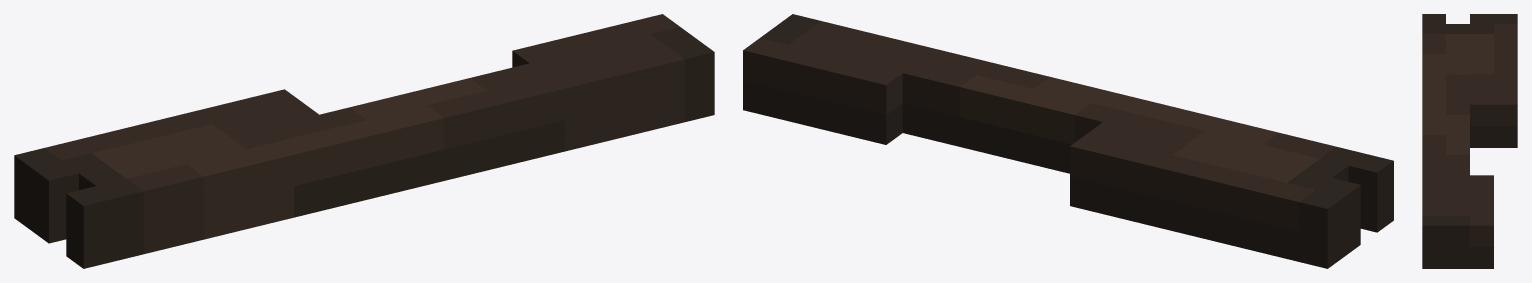
Rendered from BadBoards_LODGroup.fbx.
The picture shows the model from 3 angles, left to right: view 1: azimuth 30°, elevation 25°; view 2: azimuth 150°, elevation 25°; view 3: azimuth 270°, elevation 25°; orthographic projection. The views are drawn at different scales.
Visible parts, largest first — view 1: BadBoards_LOD0; view 2: BadBoards_LOD0; view 3: BadBoards_LOD0.
Boxes of the visible parts, <box> form: BadBoards_LOD0: <box>14,14,714,268</box>; BadBoards_LOD0: <box>743,14,1393,268</box>; BadBoards_LOD0: <box>1422,14,1517,268</box>.
Size of what is drawn, in the model's own units: 1.41 by 0.134 by 0.268.
